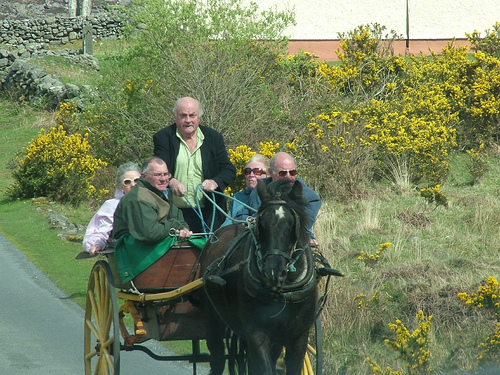horse: (201, 177, 323, 375)
